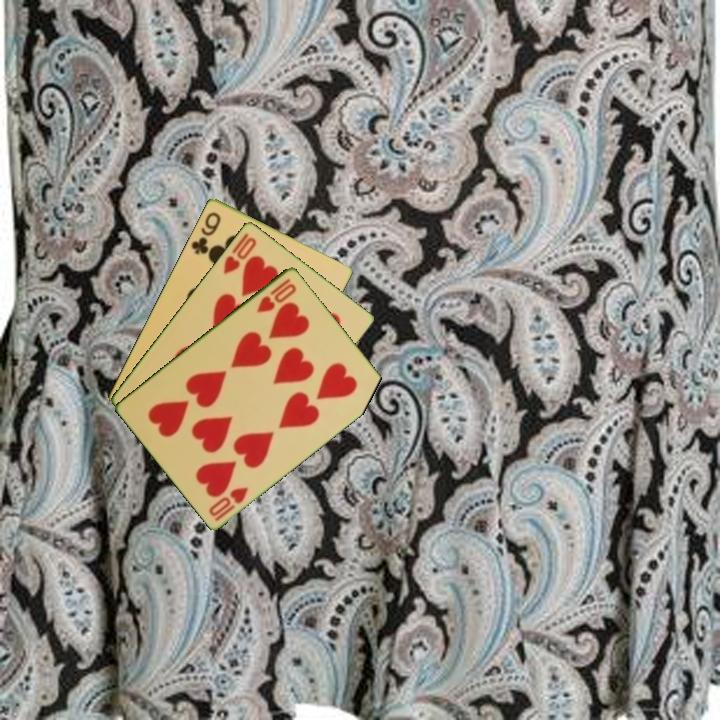10h: (253, 274, 299, 315), (205, 483, 251, 524), (219, 233, 260, 277)
9c: (187, 208, 224, 257)
